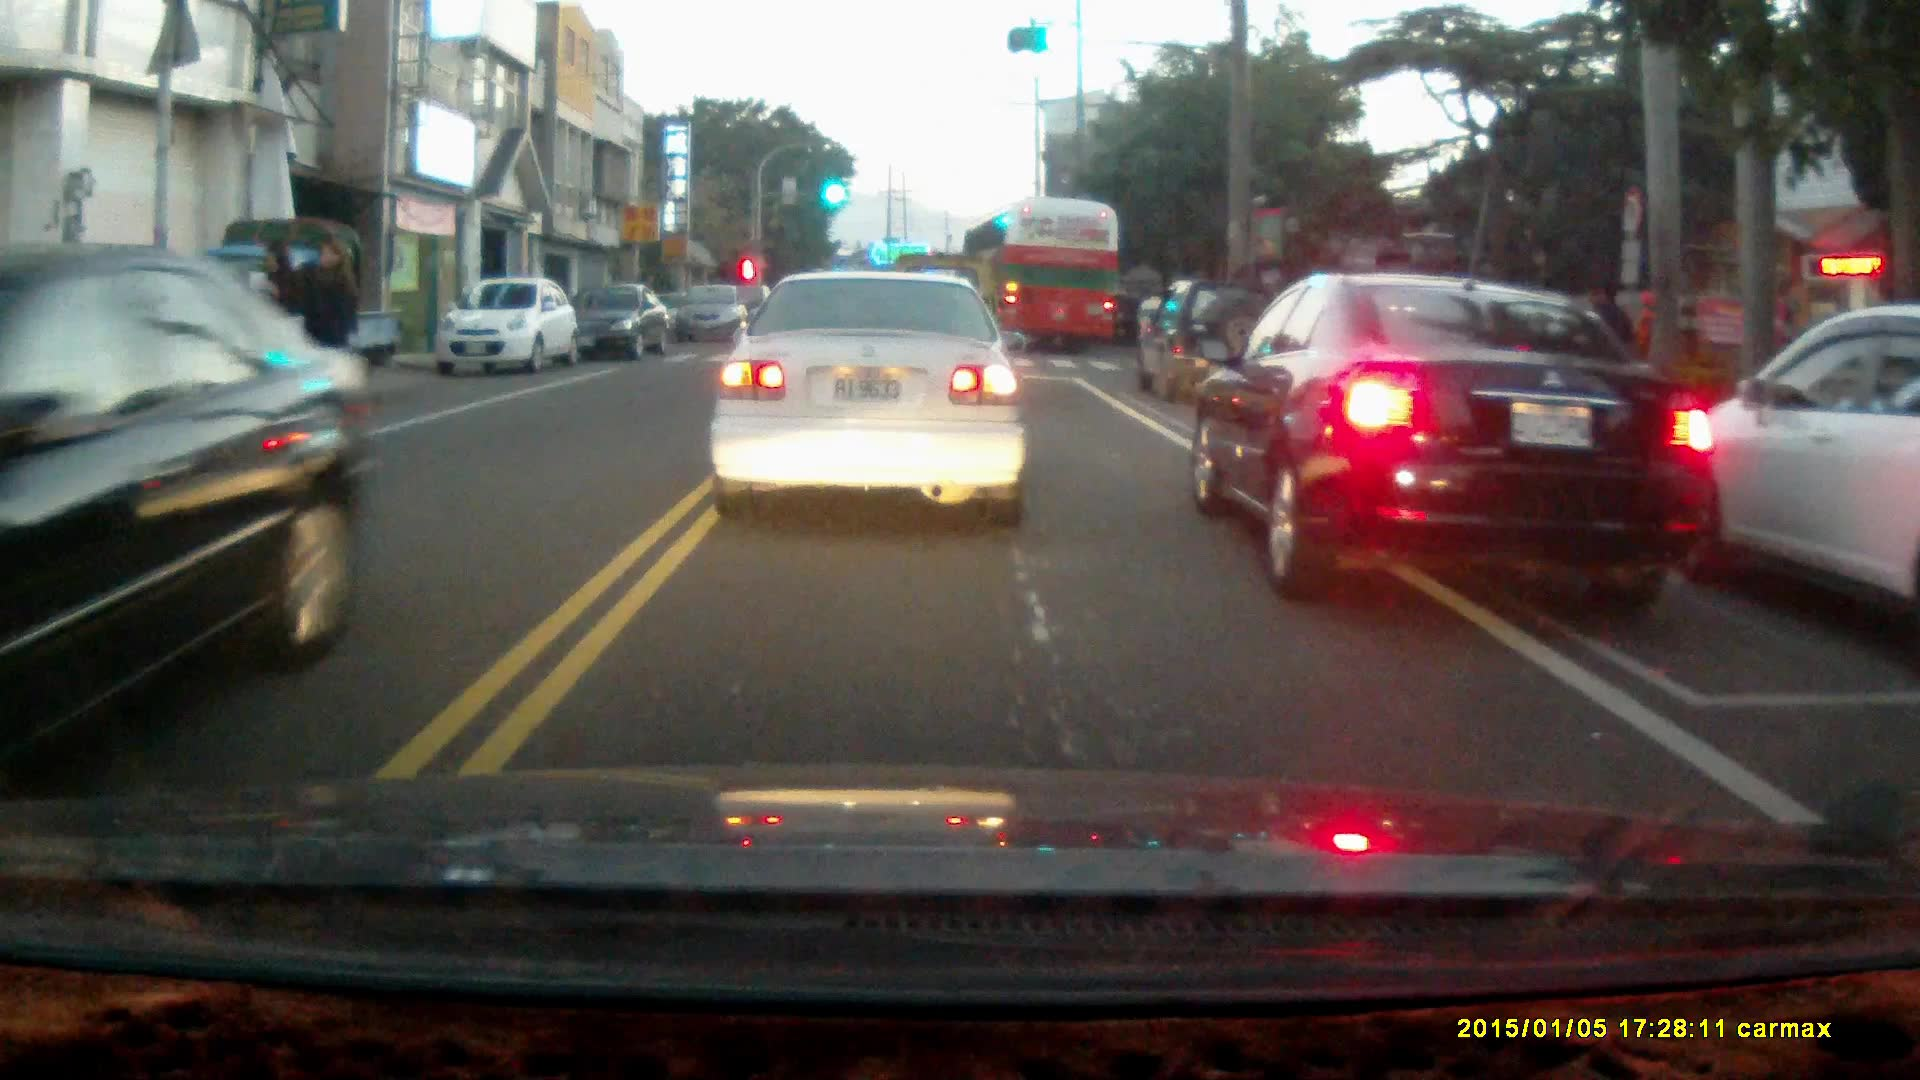pedestrian: (233, 237, 305, 440), (302, 235, 356, 435)
vehicle: (1, 257, 366, 779), (1191, 275, 1720, 597), (1646, 300, 1920, 610), (707, 265, 1030, 527), (170, 214, 413, 410), (963, 201, 1120, 357), (1142, 279, 1283, 404), (440, 279, 585, 378), (566, 278, 675, 364), (676, 285, 755, 344)
